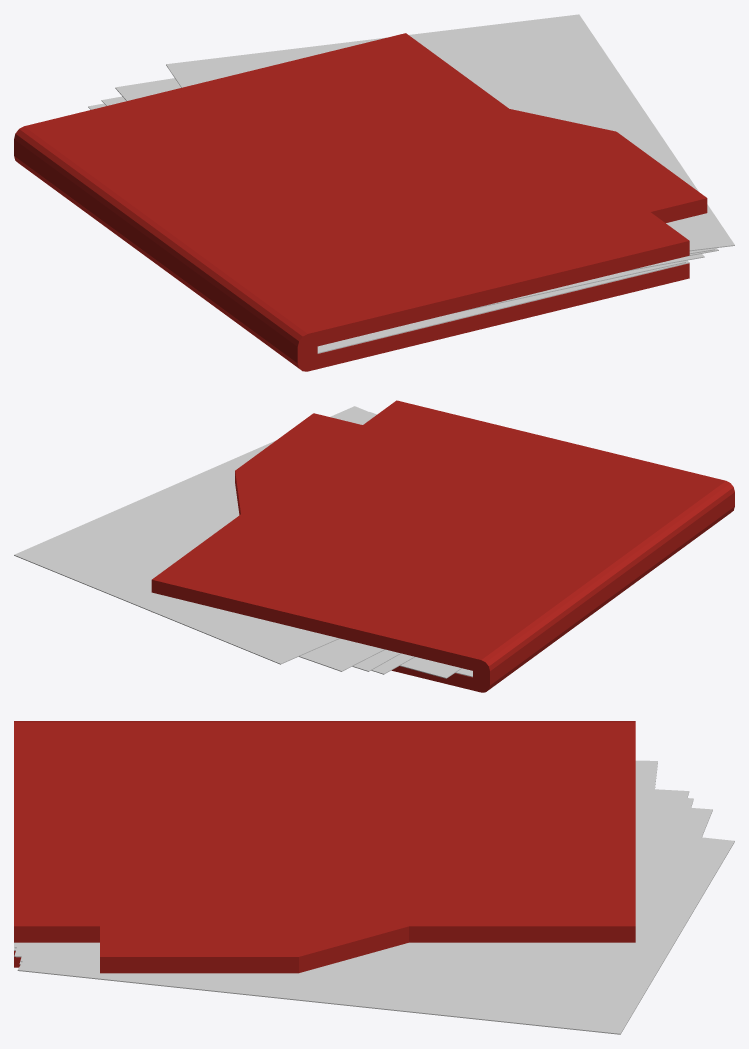
The picture shows the model from 3 angles, top to bottom: view 1: azimuth 30°, elevation 25°; view 2: azimuth 150°, elevation 25°; view 3: azimuth 270°, elevation 25°; orthographic projection. The views are drawn at different scales.
Parts seen in each view (by area): view 1: Folder, Paper 7, Paper, Paper 6, paper 3; view 2: Folder, Paper 7, Paper 6, paper 3; view 3: Folder, Paper 7, Paper 6, paper 3, paper 5, paper 4.
Boxes of the visible parts, box(x1,y1,x2,y2) form: Folder: box(14, 33, 707, 371); Paper 7: box(166, 14, 734, 251); Paper: box(317, 260, 689, 353); Paper 6: box(115, 78, 714, 253); paper 3: box(451, 261, 685, 313); Folder: box(151, 400, 734, 692); Paper 7: box(14, 406, 375, 664); Paper 6: box(299, 412, 385, 671); paper 3: box(400, 657, 461, 678); Folder: box(14, 721, 635, 973); Paper 7: box(17, 830, 734, 1034); Paper 6: box(20, 804, 712, 962); paper 3: box(14, 760, 657, 948); paper 5: box(19, 795, 693, 964); paper 4: box(14, 788, 689, 957).
Size of the model in its own units: 68.43 by 4.41 by 69.87.
